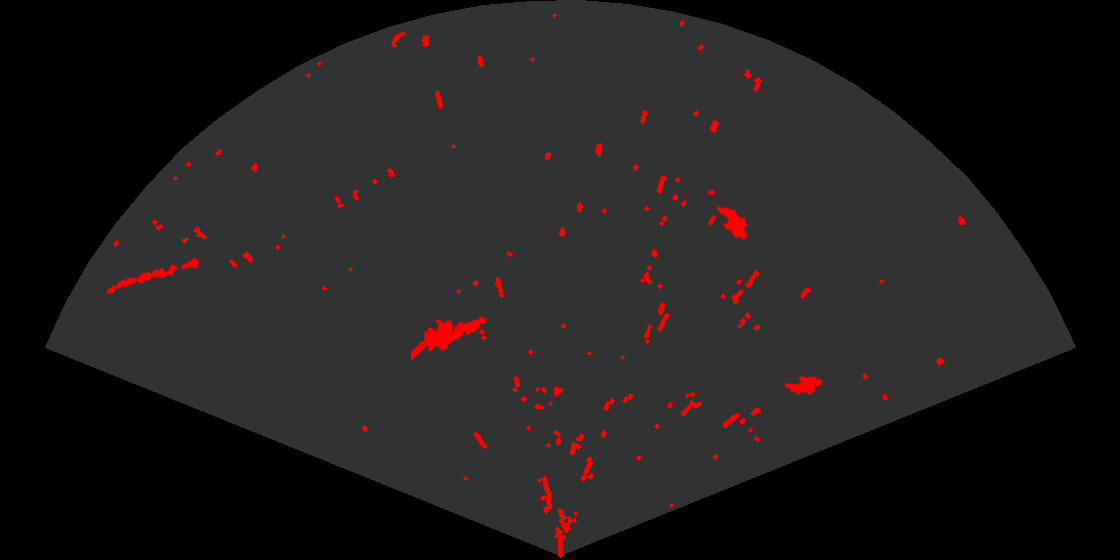AUV: (715, 204, 750, 241), (782, 374, 824, 396)
chain: (105, 256, 201, 296)
frogman: (411, 315, 489, 363)
